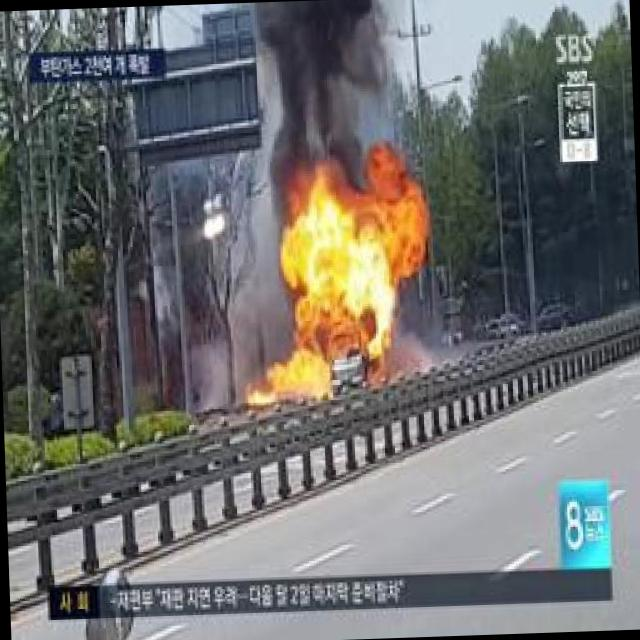Fire: (280, 136, 438, 348), (238, 336, 342, 413)
Smoke: (257, 0, 404, 146)
